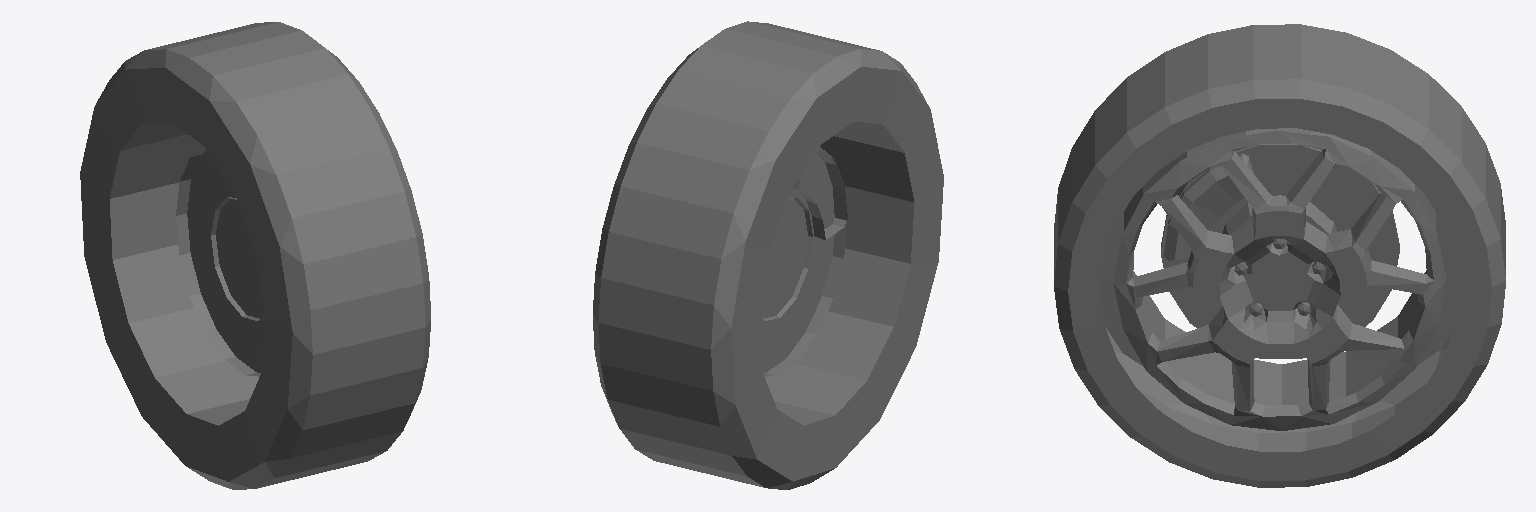
Rendered from mustang_wheel.obj.
The picture shows the model from 3 angles: view 1: azimuth 30°, elevation 25°; view 2: azimuth 150°, elevation 25°; view 3: azimuth 270°, elevation 25°; orthographic projection.
Visible parts, largest first — view 1: Model_sketchup_d_Group5_obj016_4_Mesh51; view 2: Model_sketchup_d_Group5_obj016_4_Mesh51; view 3: Model_sketchup_d_Group5_obj016_4_Mesh51.
Part boxes in pixels (bbox=[...]): Model_sketchup_d_Group5_obj016_4_Mesh51: bbox=[80, 22, 430, 489]; Model_sketchup_d_Group5_obj016_4_Mesh51: bbox=[593, 21, 943, 489]; Model_sketchup_d_Group5_obj016_4_Mesh51: bbox=[1054, 24, 1505, 487].
Bounding box in the file's own units: 0.8843 × 2.48 × 2.49.